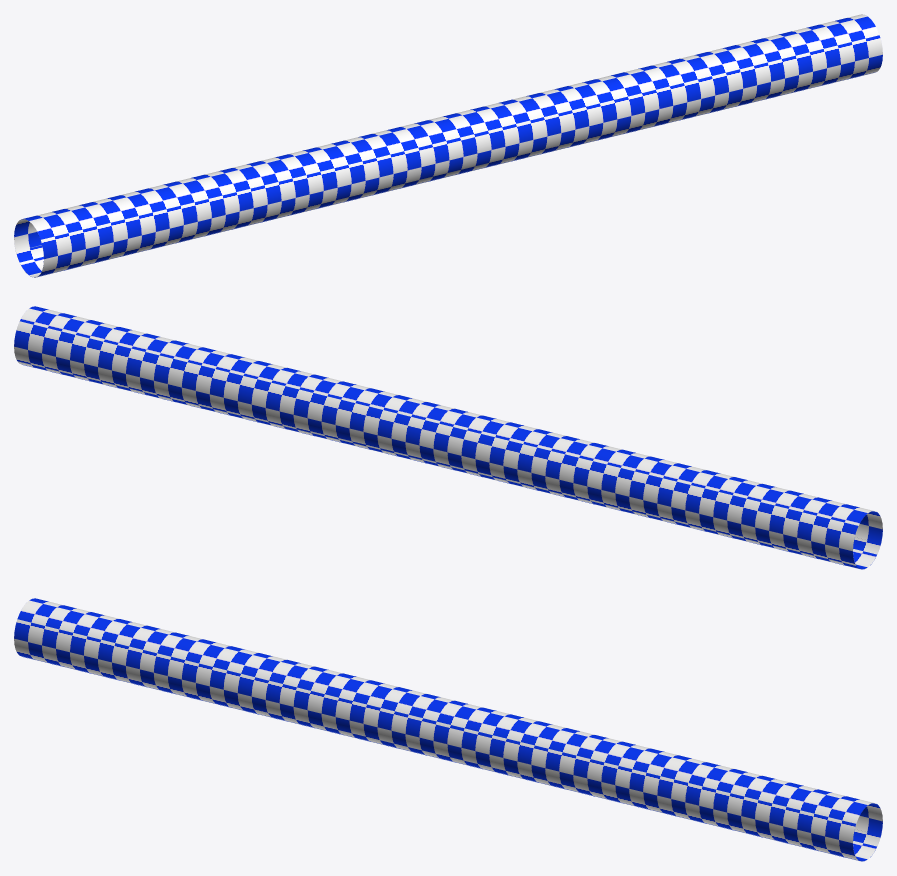
File: Runway1.FBX
The picture shows the model from 3 angles, top to bottom: view 1: azimuth 30°, elevation 25°; view 2: azimuth 150°, elevation 25°; view 3: azimuth 330°, elevation 25°; orthographic projection.
Parts seen in each view (by area): view 1: Line001; view 2: Line001; view 3: Line001.
Part boxes in pixels (x1,y1,x2,y2): Line001: (14, 14, 882, 277); Line001: (14, 306, 882, 569); Line001: (14, 598, 882, 861).
Size of the model in its own units: 3000 by 186 by 186.
1 material, 1 textured.
